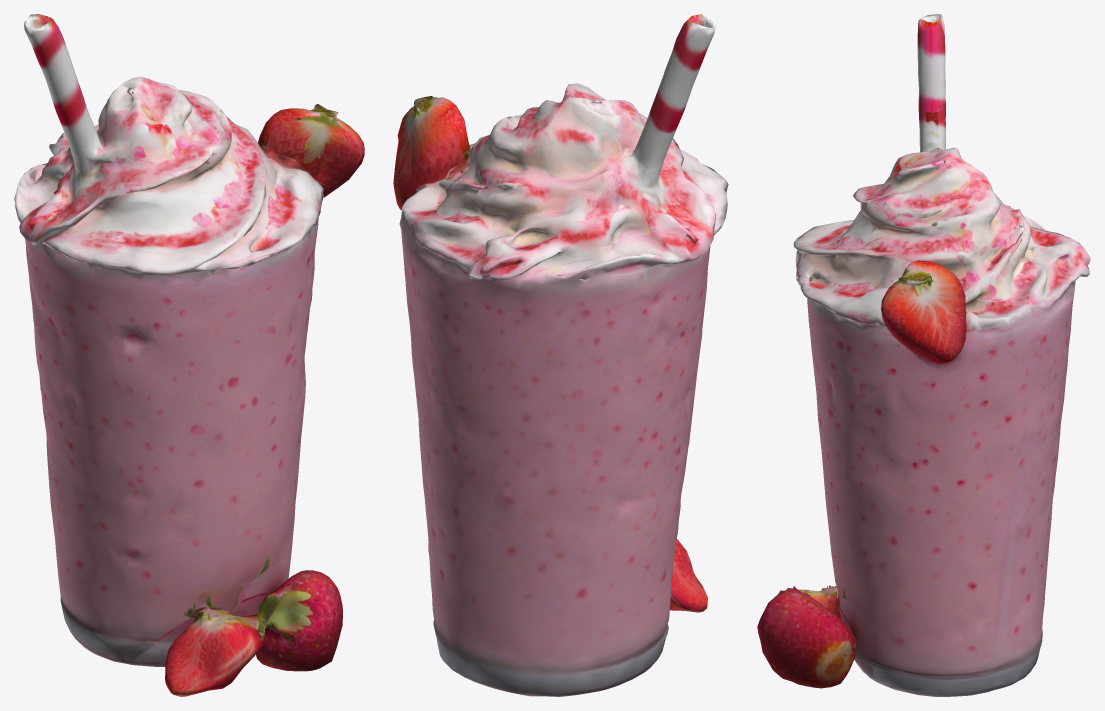
3 renders of one model, left to right at view 1: azimuth 30°, elevation 25°; view 2: azimuth 150°, elevation 25°; view 3: azimuth 270°, elevation 25°, orthographic. The views are drawn at different scales.
Bounding box in the file's own units: 1.04 × 2 × 1.04.
Materials: 1 (1 with a texture image).
